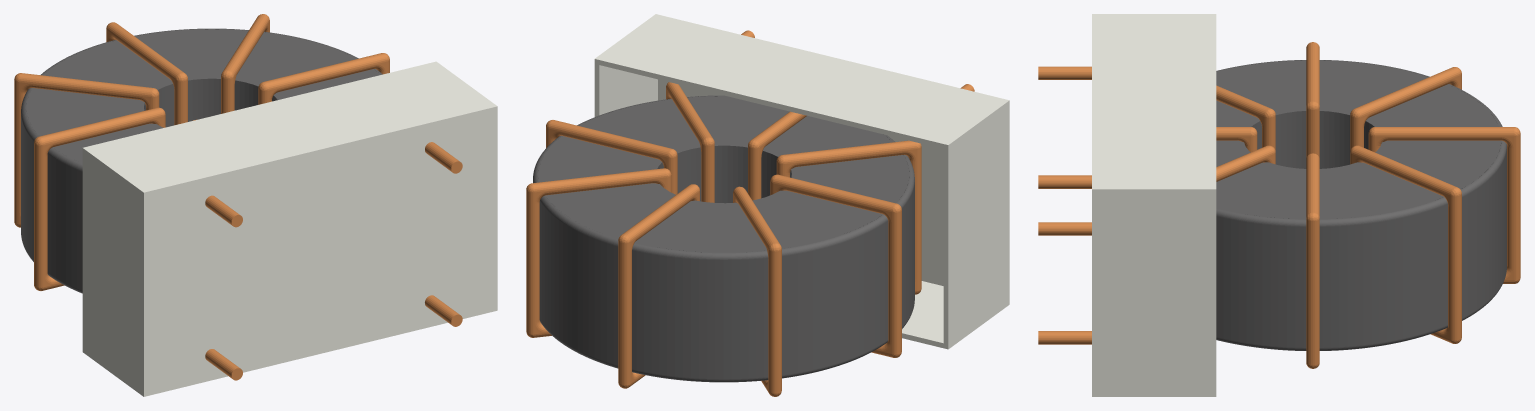
The model's file is L_CommonMode_Toroid_Vertical_L36.8mm_W20.3mm_Px15.24mm_Py22.86mm_Bourns_8100.glb.
The picture shows the model from 3 angles, left to right: view 1: azimuth 30°, elevation 25°; view 2: azimuth 150°, elevation 25°; view 3: azimuth 270°, elevation 25°; orthographic projection.
Parts seen in each view (by area): view 1: Shape_IndexedFaceSet.015, Shape_IndexedFaceSet.001, Shape_IndexedFaceSet.002, Shape_IndexedFaceSet.014, Shape_IndexedFaceSet.172, Shape_IndexedFaceSet.138, Shape_IndexedFaceSet.314, Shape_IndexedFaceSet.067, Shape_IndexedFaceSet.214, Shape_IndexedFaceSet.159, Shape_IndexedFaceSet.197, Shape_IndexedFaceSet.419 (+20 smaller); view 2: Shape_IndexedFaceSet.001, Shape_IndexedFaceSet.117, Shape_IndexedFaceSet.159, Shape_IndexedFaceSet.002, Shape_IndexedFaceSet.094, Shape_IndexedFaceSet.214, Shape_IndexedFaceSet.314, Shape_IndexedFaceSet.138, Shape_IndexedFaceSet, Shape_IndexedFaceSet.013, Shape_IndexedFaceSet.354, Shape_IndexedFaceSet.078 (+37 smaller); view 3: Shape_IndexedFaceSet.004, Shape_IndexedFaceSet.001, Shape_IndexedFaceSet.069, Shape_IndexedFaceSet.080, Shape_IndexedFaceSet.094, Shape_IndexedFaceSet.067, Shape_IndexedFaceSet.078, Shape_IndexedFaceSet.138, Shape_IndexedFaceSet.314, Shape_IndexedFaceSet.354, Shape_IndexedFaceSet.214, Shape_IndexedFaceSet.385 (+25 smaller).
Boxes of the visible parts, x1=… form: Shape_IndexedFaceSet.015: x1=148, y1=112, x2=492, y2=390; Shape_IndexedFaceSet.001: x1=83, y1=61, x2=494, y2=190; Shape_IndexedFaceSet.002: x1=82, y1=148, x2=140, y2=394; Shape_IndexedFaceSet.014: x1=144, y1=106, x2=497, y2=396; Shape_IndexedFaceSet.172: x1=47, y1=154, x2=82, y2=290; Shape_IndexedFaceSet.138: x1=135, y1=29, x2=248, y2=80; Shape_IndexedFaceSet.314: x1=26, y1=88, x2=144, y2=136; Shape_IndexedFaceSet.067: x1=235, y1=32, x2=356, y2=86; Shape_IndexedFaceSet.214: x1=43, y1=40, x2=172, y2=89; Shape_IndexedFaceSet.159: x1=21, y1=103, x2=33, y2=260; Shape_IndexedFaceSet.197: x1=188, y1=78, x2=220, y2=121; Shape_IndexedFaceSet.419: x1=35, y1=144, x2=43, y2=287; Shape_IndexedFaceSet.001: x1=595, y1=16, x2=1006, y2=144; Shape_IndexedFaceSet.117: x1=632, y1=250, x2=768, y2=379; Shape_IndexedFaceSet.159: x1=782, y1=221, x2=888, y2=375; Shape_IndexedFaceSet.002: x1=948, y1=102, x2=1006, y2=349; Shape_IndexedFaceSet.094: x1=539, y1=201, x2=618, y2=365; Shape_IndexedFaceSet.214: x1=634, y1=200, x2=766, y2=252; Shape_IndexedFaceSet.314: x1=752, y1=190, x2=882, y2=248; Shape_IndexedFaceSet.138: x1=545, y1=183, x2=675, y2=238; Shape_IndexedFaceSet: x1=594, y1=59, x2=948, y2=349; Shape_IndexedFaceSet.013: x1=658, y1=79, x2=943, y2=285; Shape_IndexedFaceSet.354: x1=791, y1=155, x2=909, y2=203; Shape_IndexedFaceSet.078: x1=579, y1=99, x2=700, y2=153; Shape_IndexedFaceSet.004: x1=1097, y1=189, x2=1216, y2=396; Shape_IndexedFaceSet.001: x1=1097, y1=14, x2=1216, y2=189; Shape_IndexedFaceSet.069: x1=1319, y1=204, x2=1447, y2=347; Shape_IndexedFaceSet.080: x1=1216, y1=216, x2=1306, y2=347; Shape_IndexedFaceSet.094: x1=1462, y1=149, x2=1506, y2=318; Shape_IndexedFaceSet.067: x1=1319, y1=162, x2=1443, y2=219; Shape_IndexedFaceSet.078: x1=1216, y1=162, x2=1306, y2=219; Shape_IndexedFaceSet.138: x1=1375, y1=140, x2=1501, y2=189; Shape_IndexedFaceSet.314: x1=1319, y1=60, x2=1428, y2=114; Shape_IndexedFaceSet.354: x1=1216, y1=60, x2=1306, y2=114; Shape_IndexedFaceSet.214: x1=1366, y1=84, x2=1498, y2=126; Shape_IndexedFaceSet.385: x1=1319, y1=111, x2=1350, y2=168.
Bounding box in the file's own units: 14.5 × 8 × 16.84.
